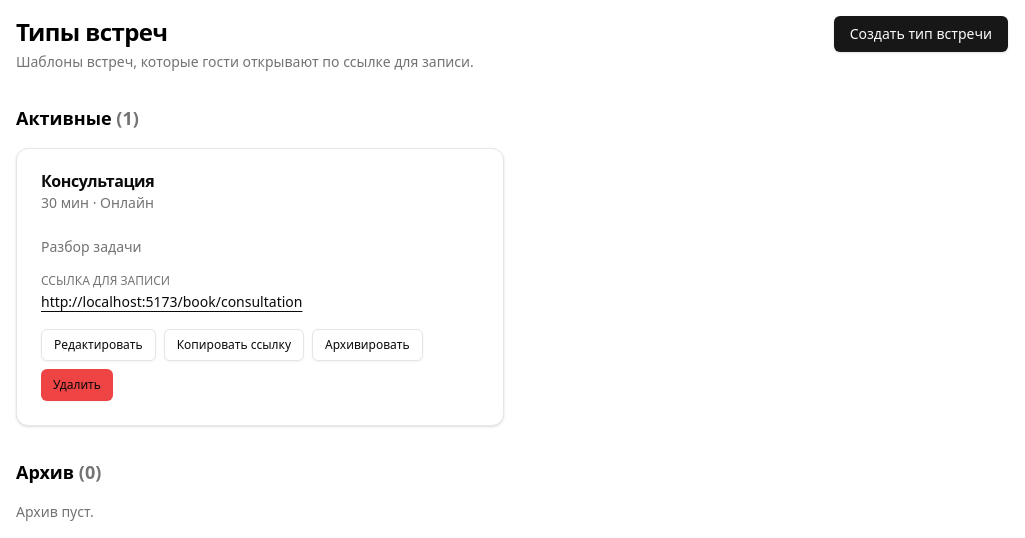
MeetingTypeListPage › deletes a meeting type after confirmation
Expected: the link "Консультация" is shown, [41,170,154,192]
Click the button "Удалить". click: (77, 385)
box: [41,369,113,401]
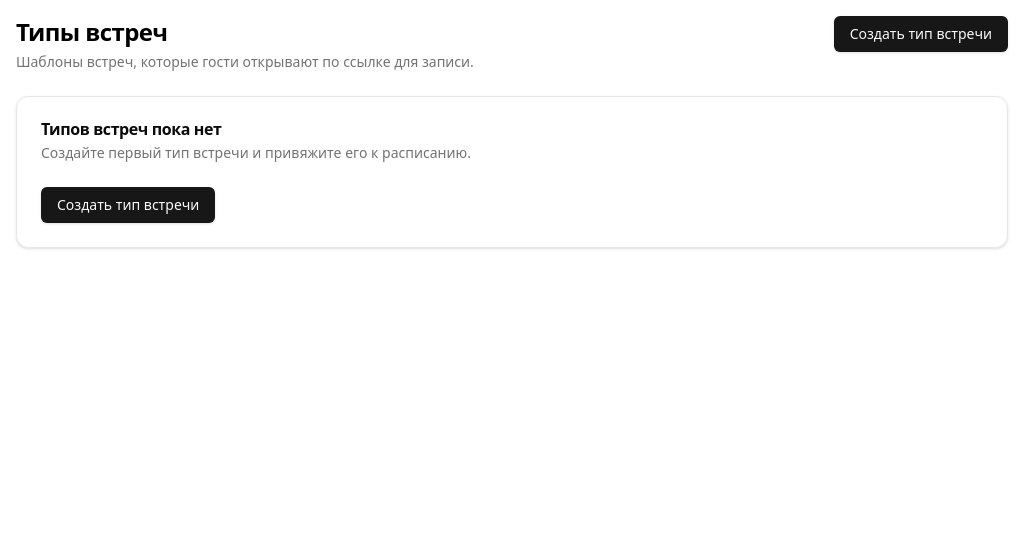
Result: the text "Типов встреч пока нет" is shown at [41,118,222,140]
